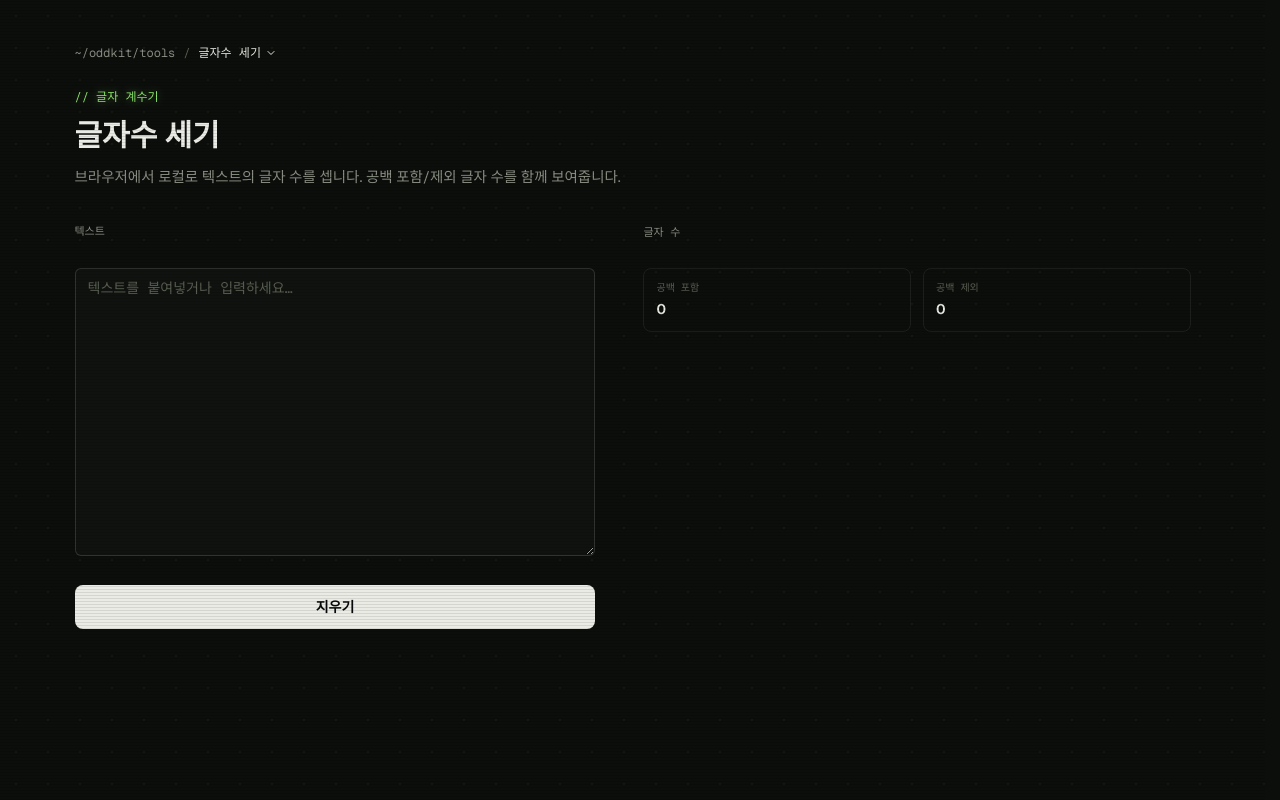
Scenario: CharacterCounterTool › 입력하면 공백 포함/제외 글자 수가 실시간으로 갱신된다
Expected: the heading "글자수 세기" is shown, x1=74 y1=116 x2=220 y2=155
Type "hello world" into the text box labelled "텍스트" at (335, 412), box x1=74 y1=268 x2=596 y2=556
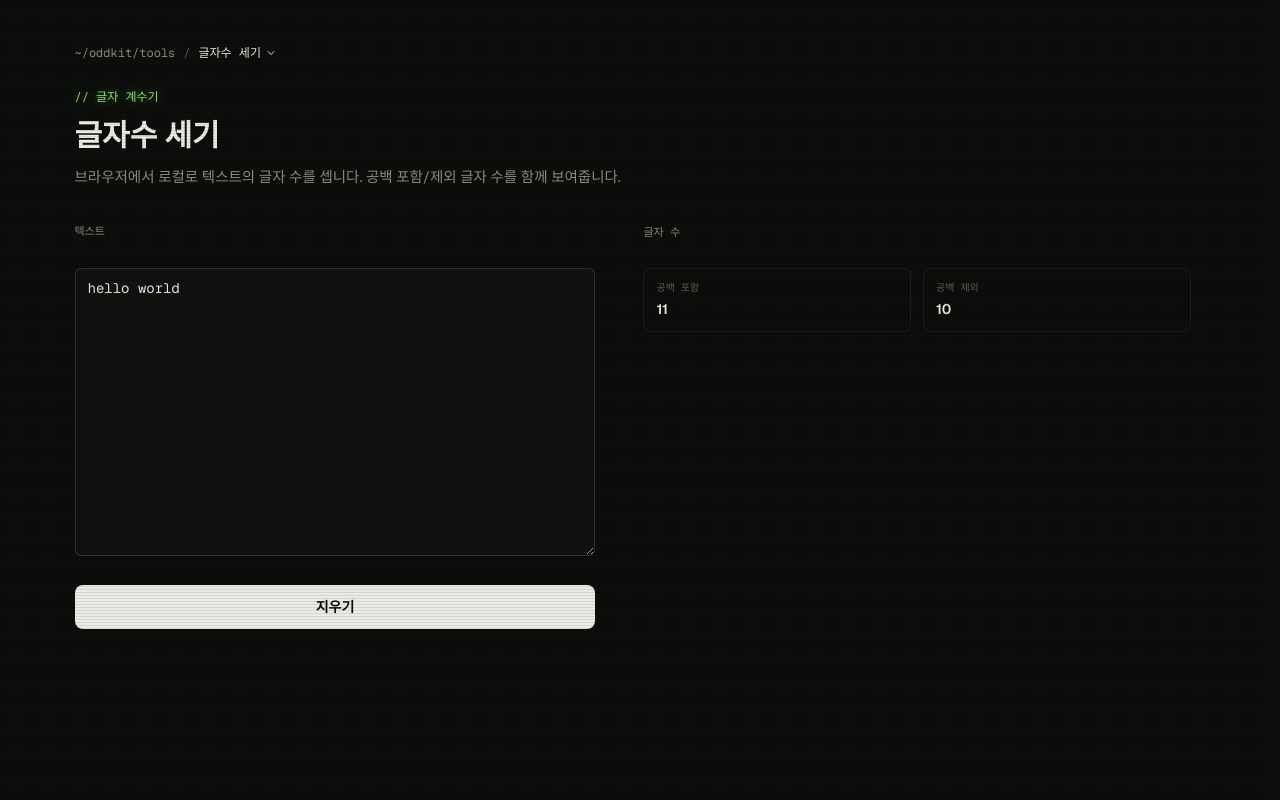
Result: the text "11" is shown at x1=656 y1=300 x2=668 y2=318
Result: the text "10" is shown at x1=936 y1=300 x2=951 y2=318
